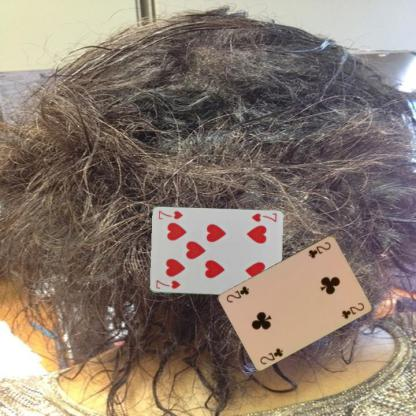2c: (257, 345, 284, 366), (306, 240, 332, 260)
7h: (248, 211, 278, 223), (153, 278, 182, 290)
